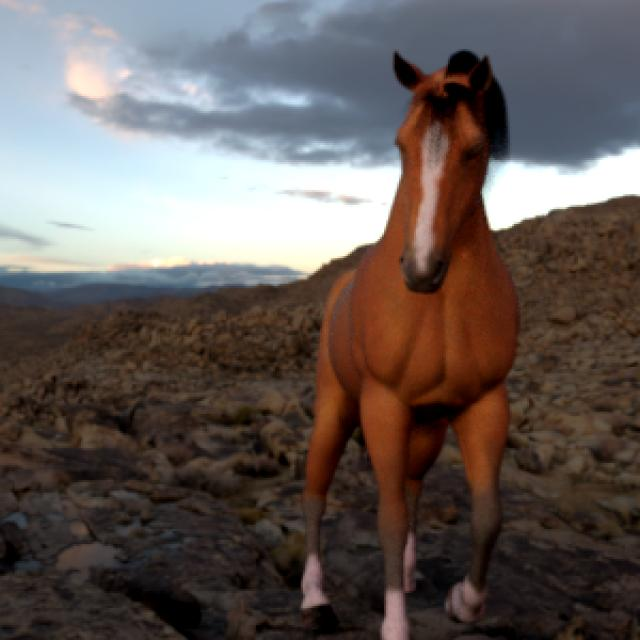horse: (302, 51, 519, 639)
